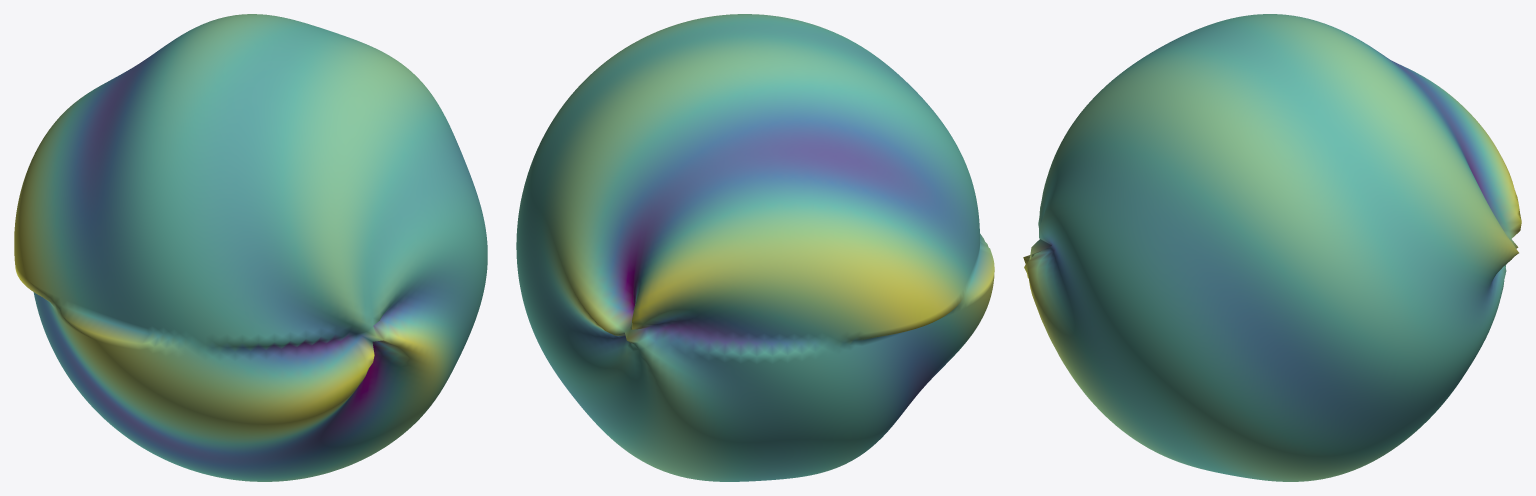
File: sphere_frame_0004.glb
3 views of the same model, side by side, from view 1: azimuth 30°, elevation 25°; view 2: azimuth 150°, elevation 25°; view 3: azimuth 270°, elevation 25° (orthographic).
Parts seen in each view (by area): view 1: world; view 2: world; view 3: world.
Part boxes in pixels (x1,y1,x2,y2): world: (14, 14, 487, 481); world: (516, 14, 994, 481); world: (1023, 14, 1521, 481).
Size of the model in its own units: 2.19 by 2.16 by 2.31.
